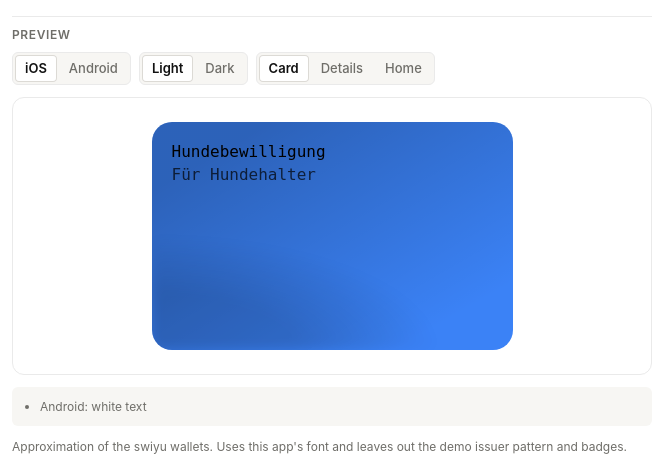
Test: CardPreview in the wallet preview › names the home row fallback title when the name is empty
The width and height of the screenshot is (669, 471).
Click the button "Home" at (403, 69), box [375, 55, 432, 82]
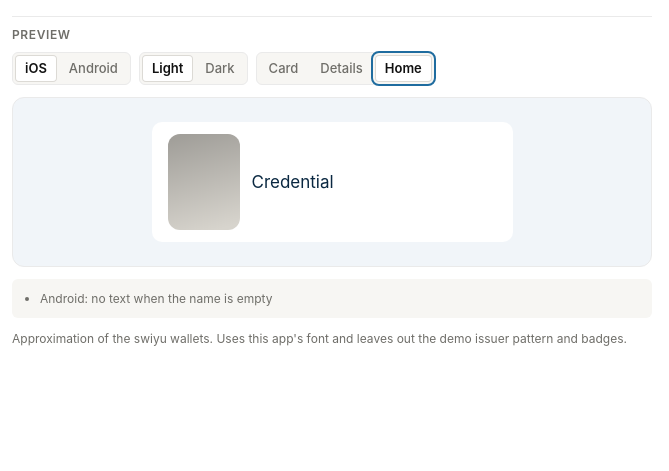
Expected: the element showing "Credential" is shown, [152, 122, 512, 242]
Expected: the list item "Android: no text when the name is empty" is shown, [40, 291, 272, 306]
Click the button "Android" at (93, 69), box [59, 55, 128, 82]
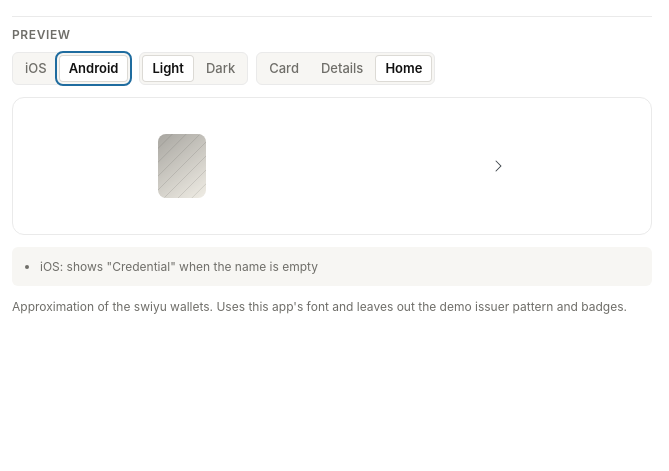
Expected: the element named "Android home row" does not show "Credential", [142, 122, 522, 210]
Expected: the list item "iOS: shows \"Credential\" when the name is empty" is shown, [40, 259, 318, 274]
